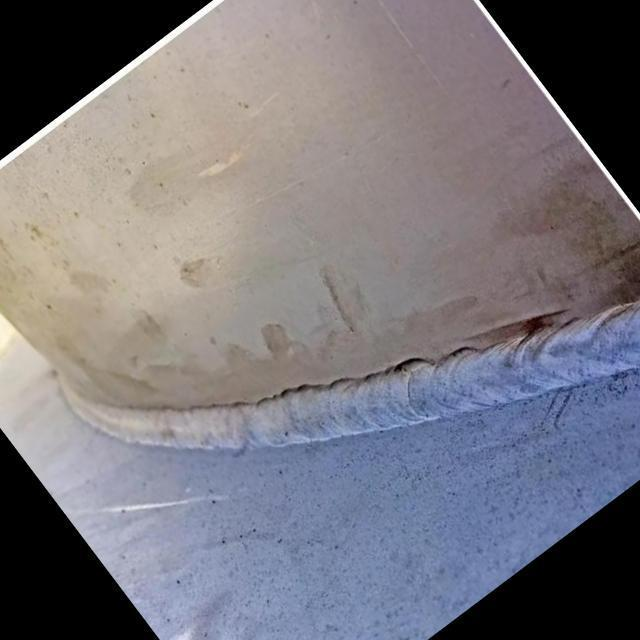defect: (109, 351, 437, 414)
